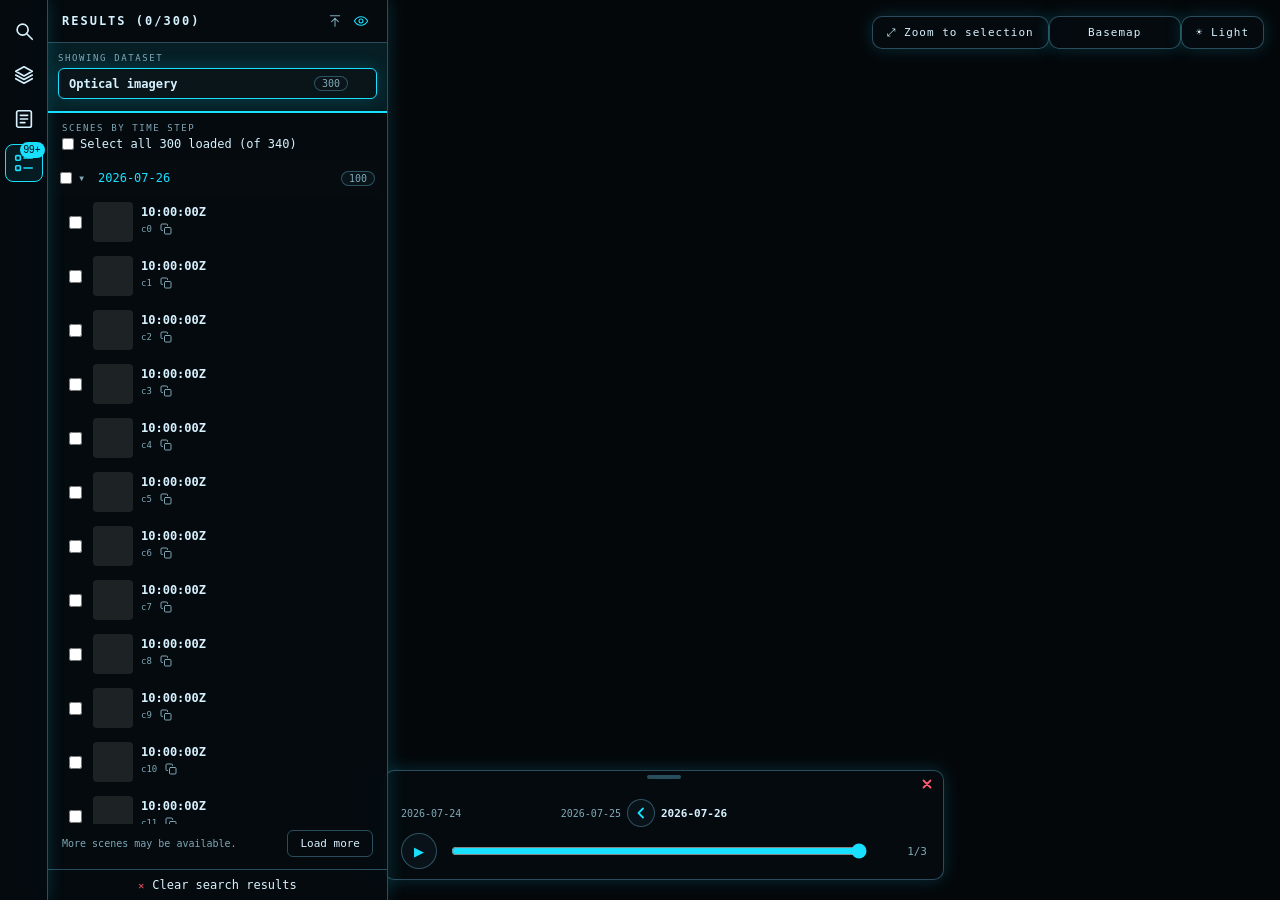
the results on the map (Otto, 26.10.2026) › a scene ticked while they are off is ticked as usual, with the bar of the selection, and shows them (Otto, 28.10.2026)
The width and height of the screenshot is (1280, 900).
Click the button named "Hide search results on the map" at (361, 21), box [349,10,373,32]
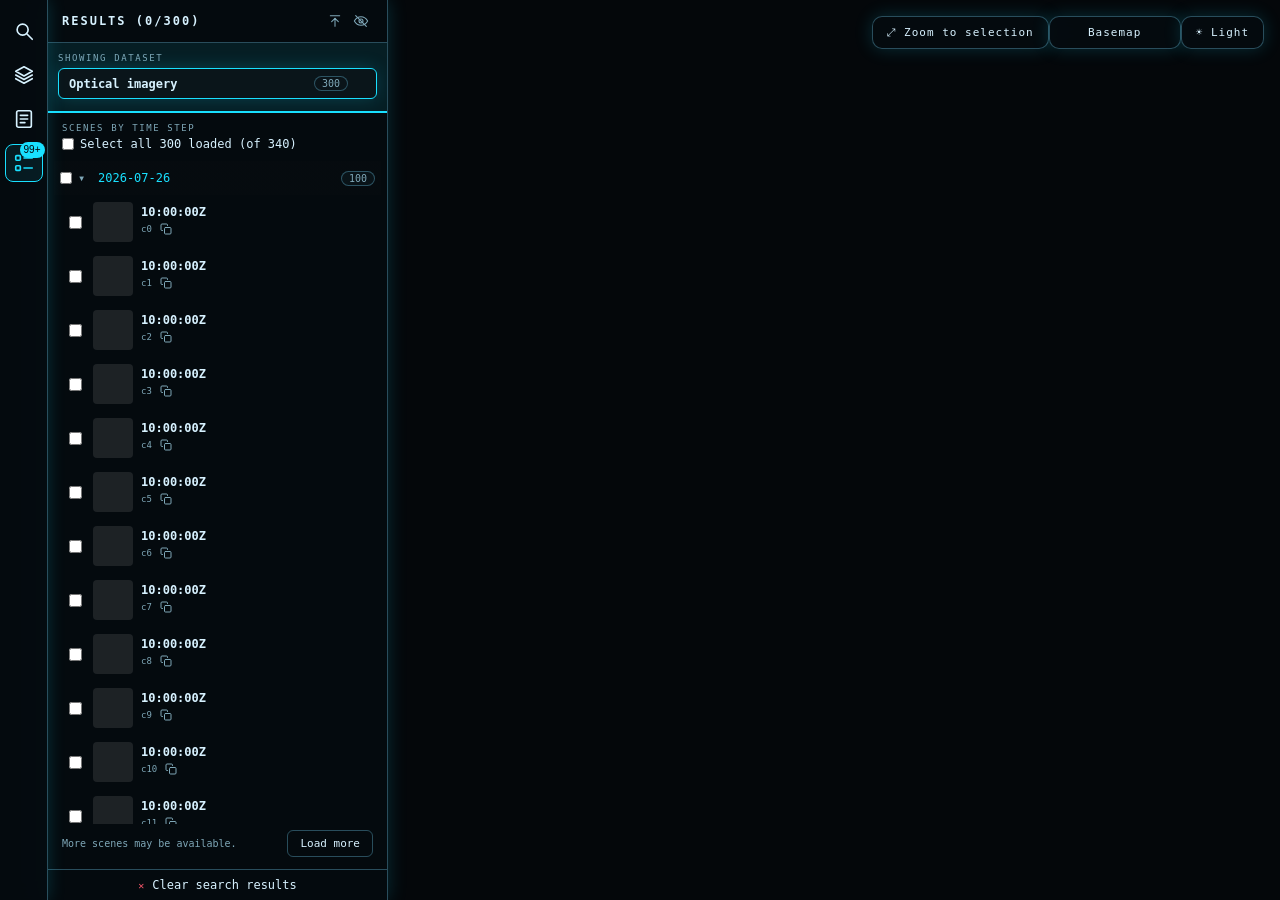
Click the checkbox named "Select c0" at (76, 222), box [69,216,82,228]
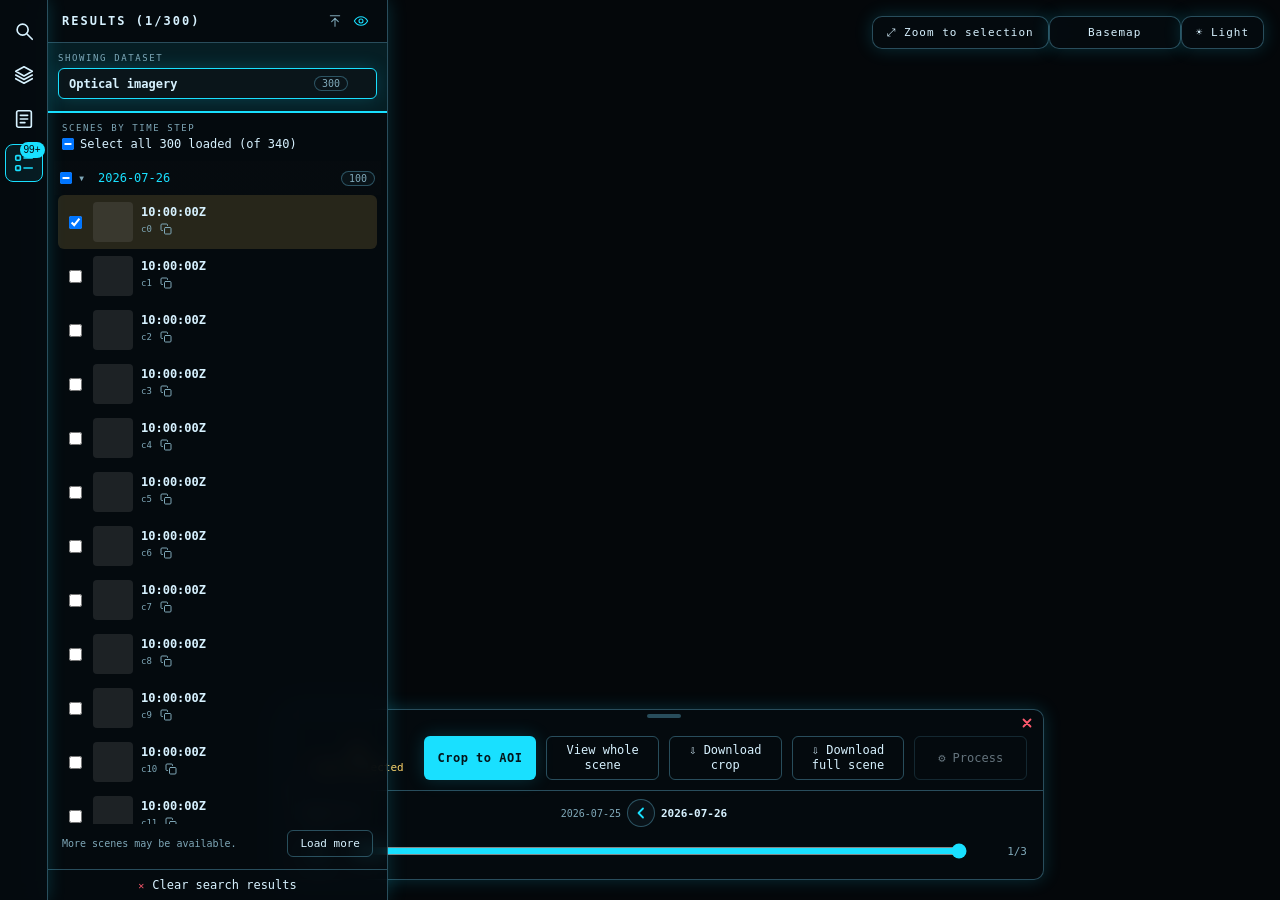
expect the text "scene selected" is shown: met, box [311,761,404,774]
